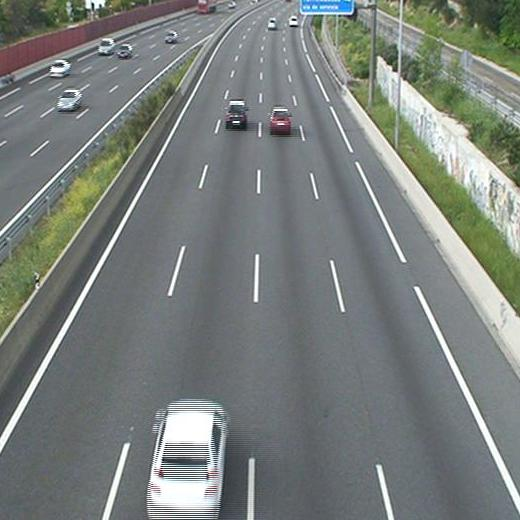car: (149, 401, 225, 504), (225, 100, 246, 125), (269, 108, 291, 131), (267, 17, 278, 29), (289, 16, 298, 26)
